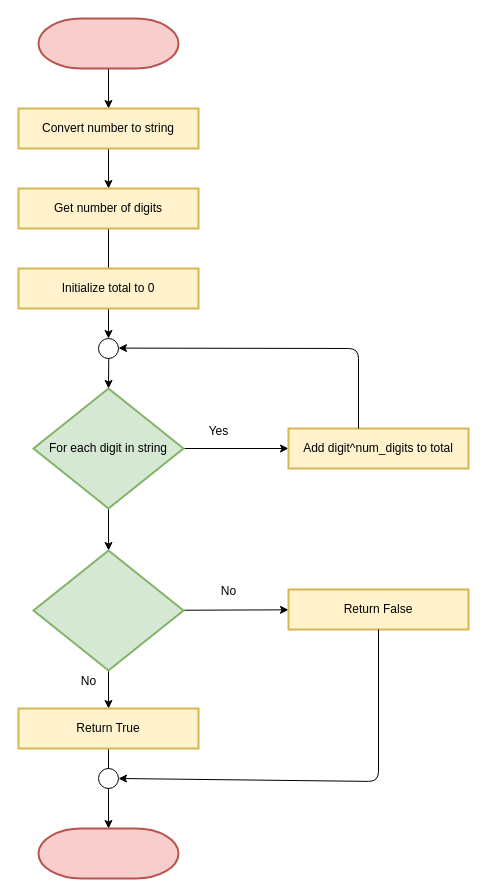
This 486x896 diagram has some shape labels left out. The centre of each missing label's shape, as x and y in pixels:
Is total equal to nnumber?: point 108,610
is-armstrong(number): point 108,43
Stop: point 108,853
